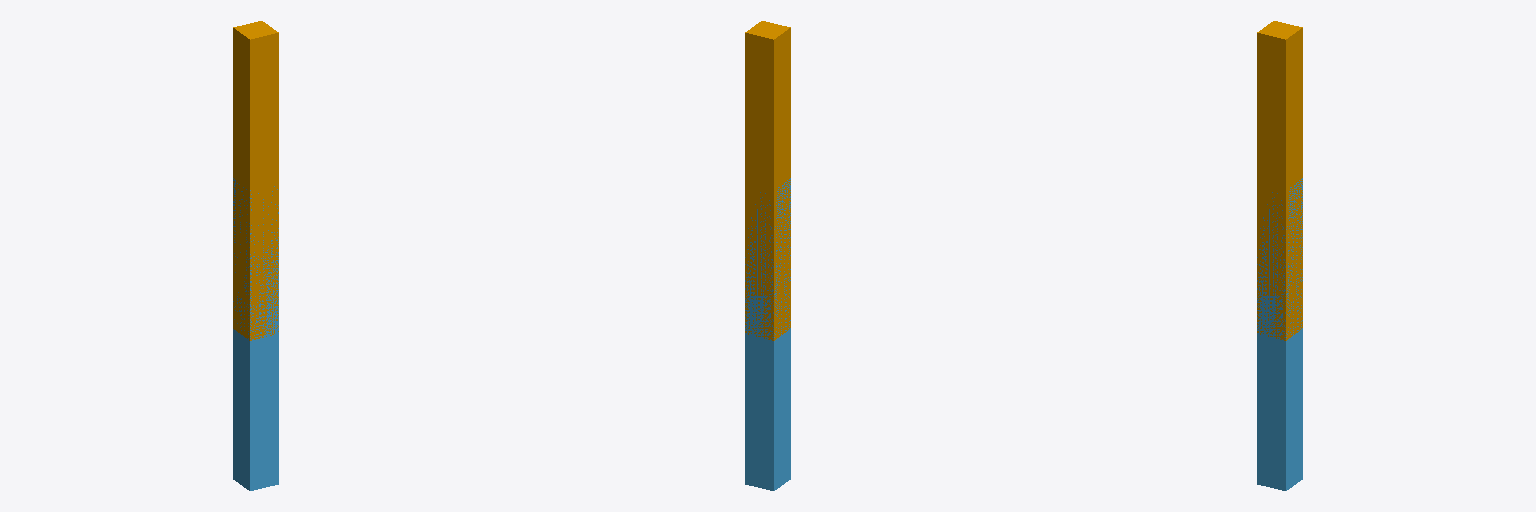
The robot description file, URDF, robot "simple":
<?xml version="1.0" encoding="utf-8"?>
<!-- =================================================================================== -->
<!-- |    This document was autogenerated by xacro from simple_robot-v1.urdf.xacro     | -->
<!-- |    EDITING THIS FILE BY HAND IS NOT RECOMMENDED                                 | -->
<!-- =================================================================================== -->
<robot name="simple">
  <!-- instead of writing same code for different links, we can reuse the code like above -->
  <link name="world">
    <visual>
      <origin rpy="0 0 0" xyz="0 0 0.5"/>
      <geometry>
        <box size="0.1 0.1 1"/>
      </geometry>
    </visual>
  </link>
  <link name="tool">
    <visual>
      <origin rpy="0 0 0" xyz="0 0 -0.5"/>
      <geometry>
        <box size="0.1 0.1 1"/>
      </geometry>
    </visual>
  </link>
  <joint name="q1" type="revolute">
    <origin rpy=" 0 0 0" xyz="0 0 0.5"/>
    <parent link="world"/>
    <child link="tool"/>
    <axis xyz="0 0 1"/>
    <limit effort="1" lower="-1" upper="1" velocity="1"/>
  </joint>
</robot>

--- Render facts (derived) ---
3 views of the same robot in one strip: view 1: azimuth 30°, elevation 25°; view 2: azimuth 150°, elevation 25°; view 3: azimuth 330°, elevation 25° (orthographic).
Model simple with 2 links and 1 joints (1 revolute), rooted at world, posed all joints at 0.
Links seen in each view (by area): view 1: world, tool; view 2: world, tool; view 3: world, tool.
Boxes of the visible links, x1=… form: world: x1=233, y1=21, x2=278, y2=340; tool: x1=233, y1=178, x2=278, y2=490; world: x1=745, y1=21, x2=790, y2=340; tool: x1=745, y1=178, x2=790, y2=490; world: x1=1257, y1=21, x2=1302, y2=340; tool: x1=1257, y1=178, x2=1302, y2=490.
Size in the robot's own frame: 0.1 by 0.1 by 1.5 metres.
Geometry: primitives only (box / cylinder / sphere), no mesh files.